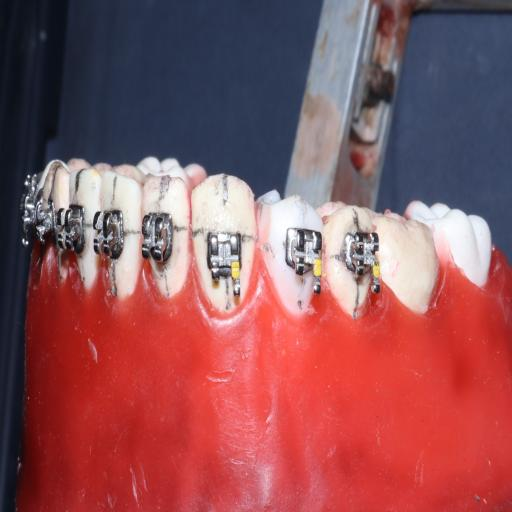incorrect_brace: (204, 224, 246, 298)
